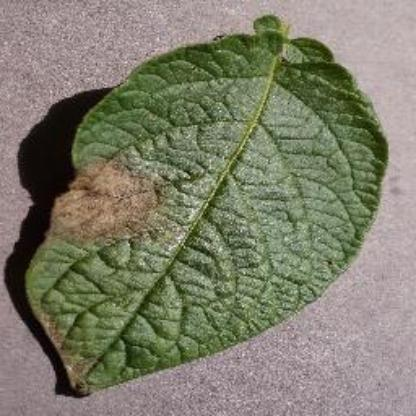Late-Blight: (19, 10, 387, 398)
